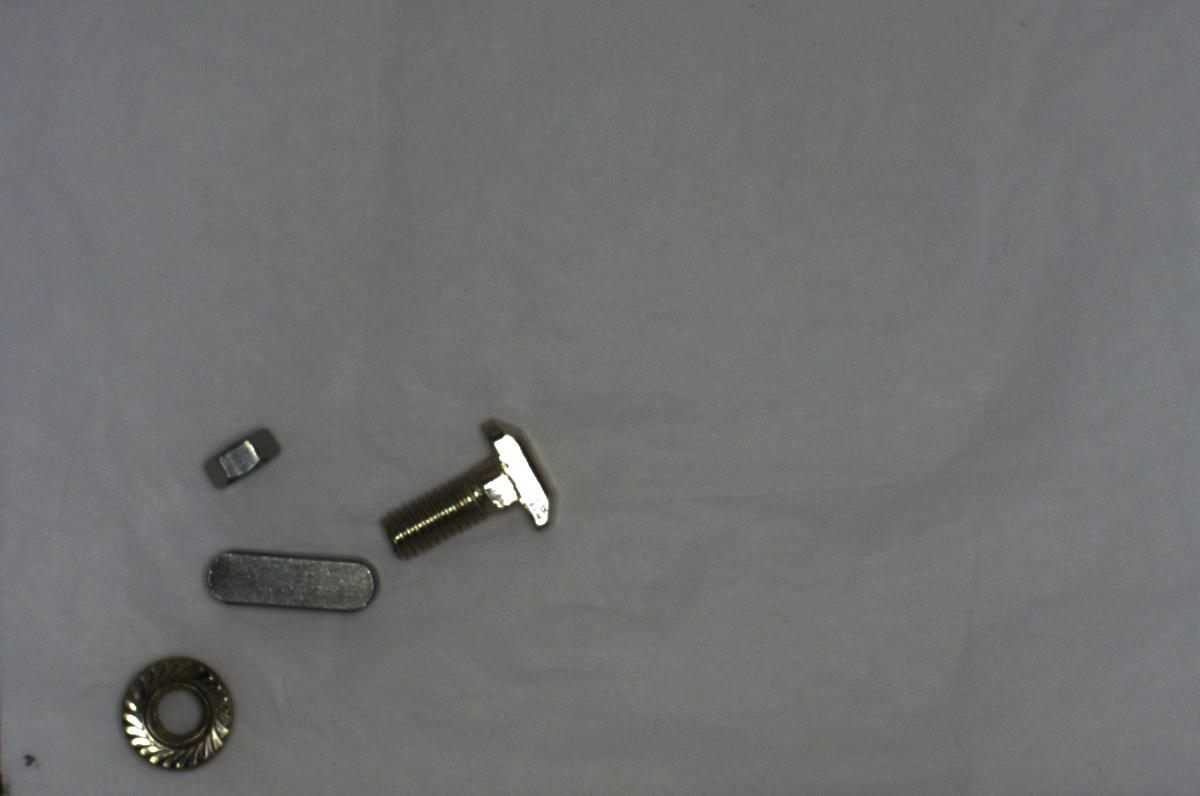Flange nut: (111, 650, 242, 775)
Hexagon nut: (193, 418, 287, 494)
Keybar: (199, 541, 393, 614)
T-shaped screw: (380, 415, 565, 560)
